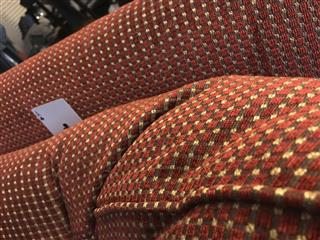AceOfClubs: (31, 98, 81, 134)
